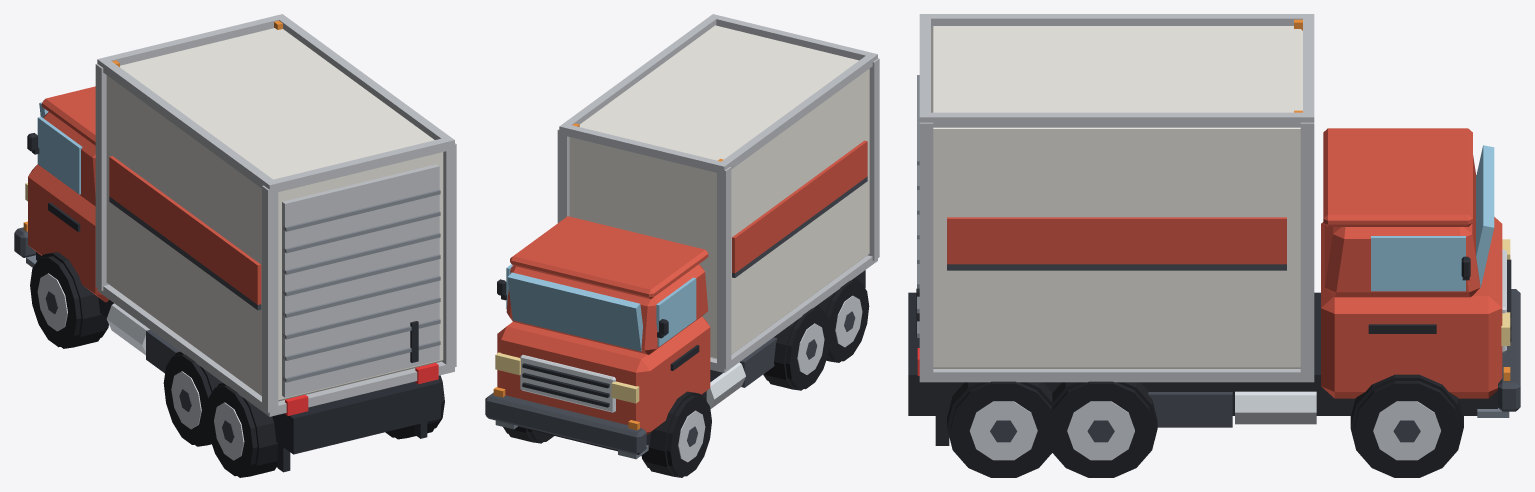
The model's file is box_truck.glb.
3 renders of one model, left to right at view 1: azimuth 30°, elevation 25°; view 2: azimuth 150°, elevation 25°; view 3: azimuth 270°, elevation 25°, orthographic. The views are drawn at different scales.
Parts seen in each view (by area): view 1: Body, Wheel_0L, Wheel_2L, Wheel_1L, Wheel_2R; view 2: Body, Wheel_0L, Wheel_1L, Wheel_2L, Wheel_0R; view 3: Body, Wheel_0R, Wheel_2R, Wheel_1R.
Part boxes in pixels (<box>): Body: <box>14,14,456,472</box>; Wheel_0L: <box>30,252,108,348</box>; Wheel_2L: <box>206,383,278,477</box>; Wheel_1L: <box>163,351,222,446</box>; Wheel_2R: <box>385,375,444,439</box>; Body: <box>485,14,879,459</box>; Wheel_0L: <box>641,391,711,477</box>; Wheel_1L: <box>763,306,831,390</box>; Wheel_2L: <box>817,278,869,362</box>; Wheel_0R: <box>503,427,553,443</box>; Body: <box>908,14,1520,445</box>; Wheel_0R: <box>1350,374,1463,477</box>; Wheel_2R: <box>947,381,1055,477</box>; Wheel_1R: <box>1049,381,1157,477</box>.
Bounding box in the file's own units: 1.14 × 1.76 × 2.7.
Materials: 1 (1 with a texture image).
